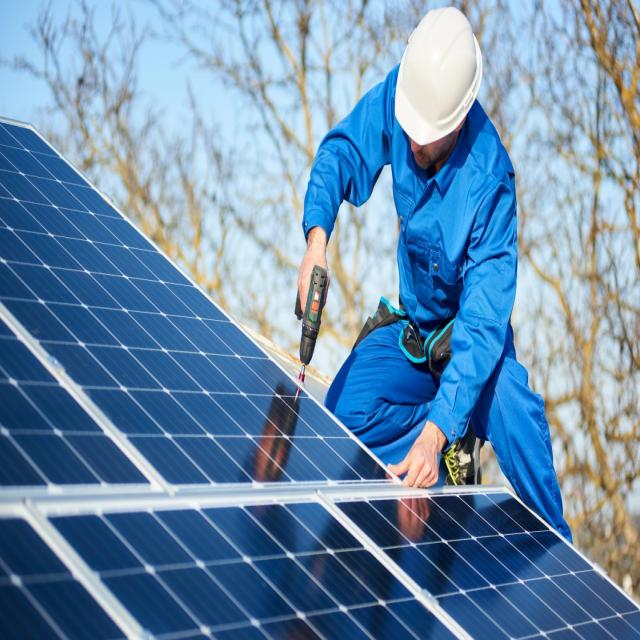clean-solar-panel: (0, 120, 640, 638)
